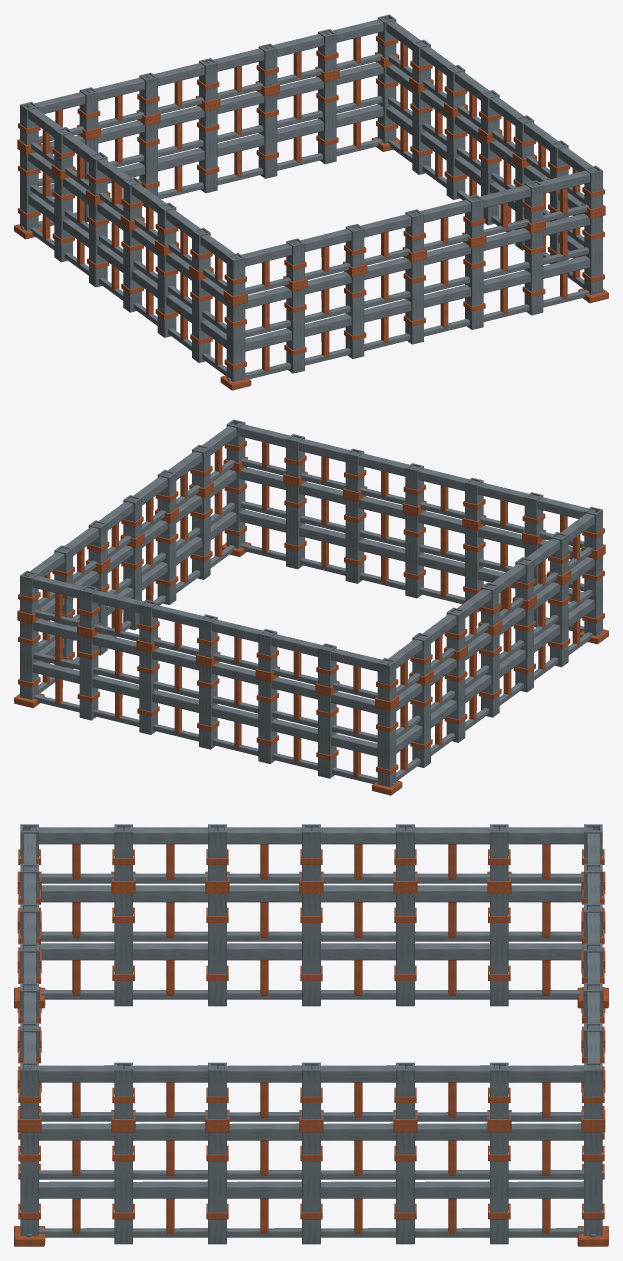
The picture shows the model from 3 angles, top to bottom: view 1: azimuth 30°, elevation 25°; view 2: azimuth 150°, elevation 25°; view 3: azimuth 270°, elevation 25°; orthographic projection. The views are drawn at different scales.
Parts seen in each view (by area): view 1: Tier 0 side 0 post 0, Tier 0 side 2 post 2, Tier 0 side 0 post 2, Tier 0 side 0 post 5, Tier 0 side 2 post 3, Tier 0 side 0 post 4, Tier 0 side 2 post 1, Tier 0 side 0 post 1, Tier 0 side 0 post 3, Tier 0 side 1 post 0, Tier 0 side 3 post 4, Tier 0 side 1 post 4 (+64 smaller); view 2: Tier 0 side 3 post 0, Tier 0 side 2 post 4, Tier 0 side 0 post 4, Tier 0 side 2 post 1, Tier 0 side 0 post 3, Tier 0 side 2 post 5, Tier 0 side 2 post 2, Tier 0 side 2 post 3, Tier 0 side 0 post 5, Tier 0 side 2 post 0, Tier 0 side 3 post 2, Tier 0 side 1 post 2 (+64 smaller); view 3: Tier 0 side 1 post 1, Tier 0 side 1 post 2, Tier 0 side 1 post 3, Tier 0 side 1 post 4, Tier 0 side 1 post 5, Tier 0 side 3 post 1, Tier 0 side 3 post 2, Tier 0 side 3 post 3, Tier 0 side 3 post 4, Tier 0 side 3 post 5, Tier 0 side 1 post 0, Tier 0 side 2 post 0 (+84 smaller).
Boxes of the visible parts, box(x1,y1,x2,y2) form: Tier 0 side 0 post 0: box(226, 302, 245, 381); Tier 0 side 2 post 2: box(258, 94, 277, 178); Tier 0 side 0 post 2: box(345, 274, 364, 358); Tier 0 side 0 post 5: box(524, 230, 543, 315); Tier 0 side 2 post 3: box(199, 108, 217, 193); Tier 0 side 0 post 4: box(465, 245, 483, 329); Tier 0 side 2 post 1: box(318, 79, 336, 164); Tier 0 side 0 post 1: box(286, 289, 304, 373); Tier 0 side 0 post 3: box(405, 260, 423, 344); Tier 0 side 1 post 0: box(584, 216, 602, 294); Tier 0 side 3 post 4: box(157, 252, 176, 337); Tier 0 side 1 post 4: box(446, 114, 465, 199); Tier 0 side 3 post 0: box(377, 707, 396, 787); Tier 0 side 2 post 4: box(258, 679, 277, 763); Tier 0 side 0 post 4: box(345, 499, 364, 583); Tier 0 side 2 post 1: box(79, 636, 98, 720); Tier 0 side 0 post 3: box(405, 513, 423, 598); Tier 0 side 2 post 5: box(318, 694, 336, 778); Tier 0 side 2 post 2: box(139, 650, 157, 734); Tier 0 side 2 post 3: box(199, 665, 217, 749); Tier 0 side 0 post 5: box(286, 484, 304, 569); Tier 0 side 2 post 0: box(20, 621, 38, 699); Tier 0 side 3 post 2: box(446, 657, 465, 742); Tier 0 side 1 post 2: box(157, 519, 176, 604); Tier 0 side 1 post 1: box(114, 1132, 132, 1244); Tier 0 side 1 post 2: box(208, 1132, 226, 1244); Tier 0 side 1 post 3: box(302, 1132, 320, 1244); Tier 0 side 1 post 4: box(396, 1132, 414, 1244); Tier 0 side 1 post 5: box(490, 1132, 508, 1244); Tier 0 side 3 post 1: box(490, 894, 508, 1006); Tier 0 side 3 post 2: box(396, 894, 414, 1006); Tier 0 side 3 post 3: box(302, 894, 320, 1006); Tier 0 side 3 post 4: box(208, 894, 226, 1006); Tier 0 side 3 post 5: box(114, 894, 132, 1006); Tier 0 side 1 post 0: box(20, 1132, 38, 1235); Tier 0 side 2 post 0: box(584, 1132, 602, 1235).
Bounding box in the file's own units: 2.85 × 0.92 × 2.85.
2 materials, 2 textured.
